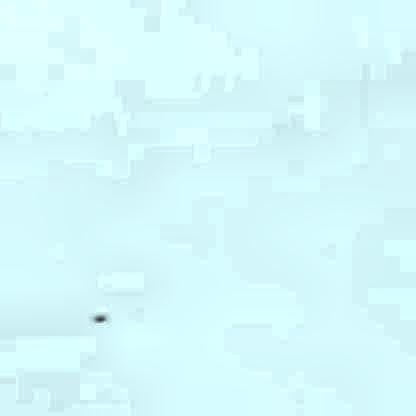golfball: (91, 310, 107, 321)
